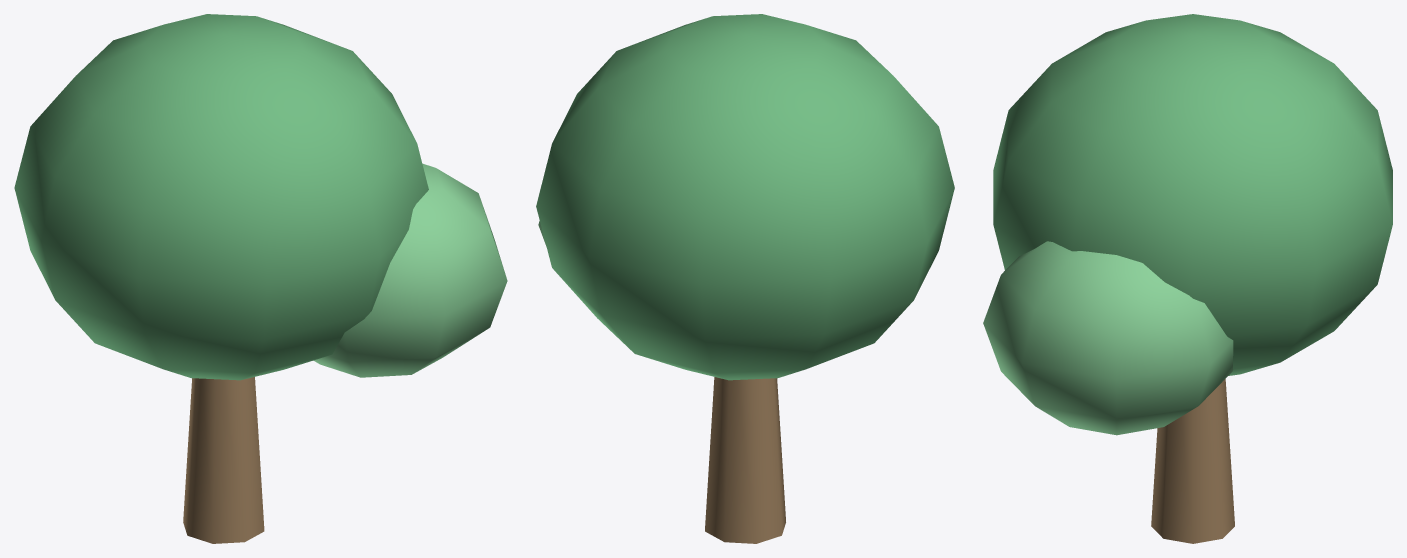
Rendered from arvore_baixa.glb.
The picture shows the model from 3 angles, left to right: view 1: azimuth 30°, elevation 25°; view 2: azimuth 150°, elevation 25°; view 3: azimuth 270°, elevation 25°; orthographic projection.
Parts seen in each view (by area): view 1: root; view 2: root; view 3: root.
Boxes of the visible parts, x1,y1,x2,y2 form: root: [14, 14, 507, 543]; root: [536, 14, 954, 543]; root: [983, 14, 1392, 543].
Size of the model in its own units: 2.5 by 2.84 by 2.15.
